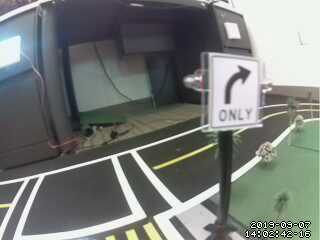Right_only_sign: (206, 53, 261, 124)
